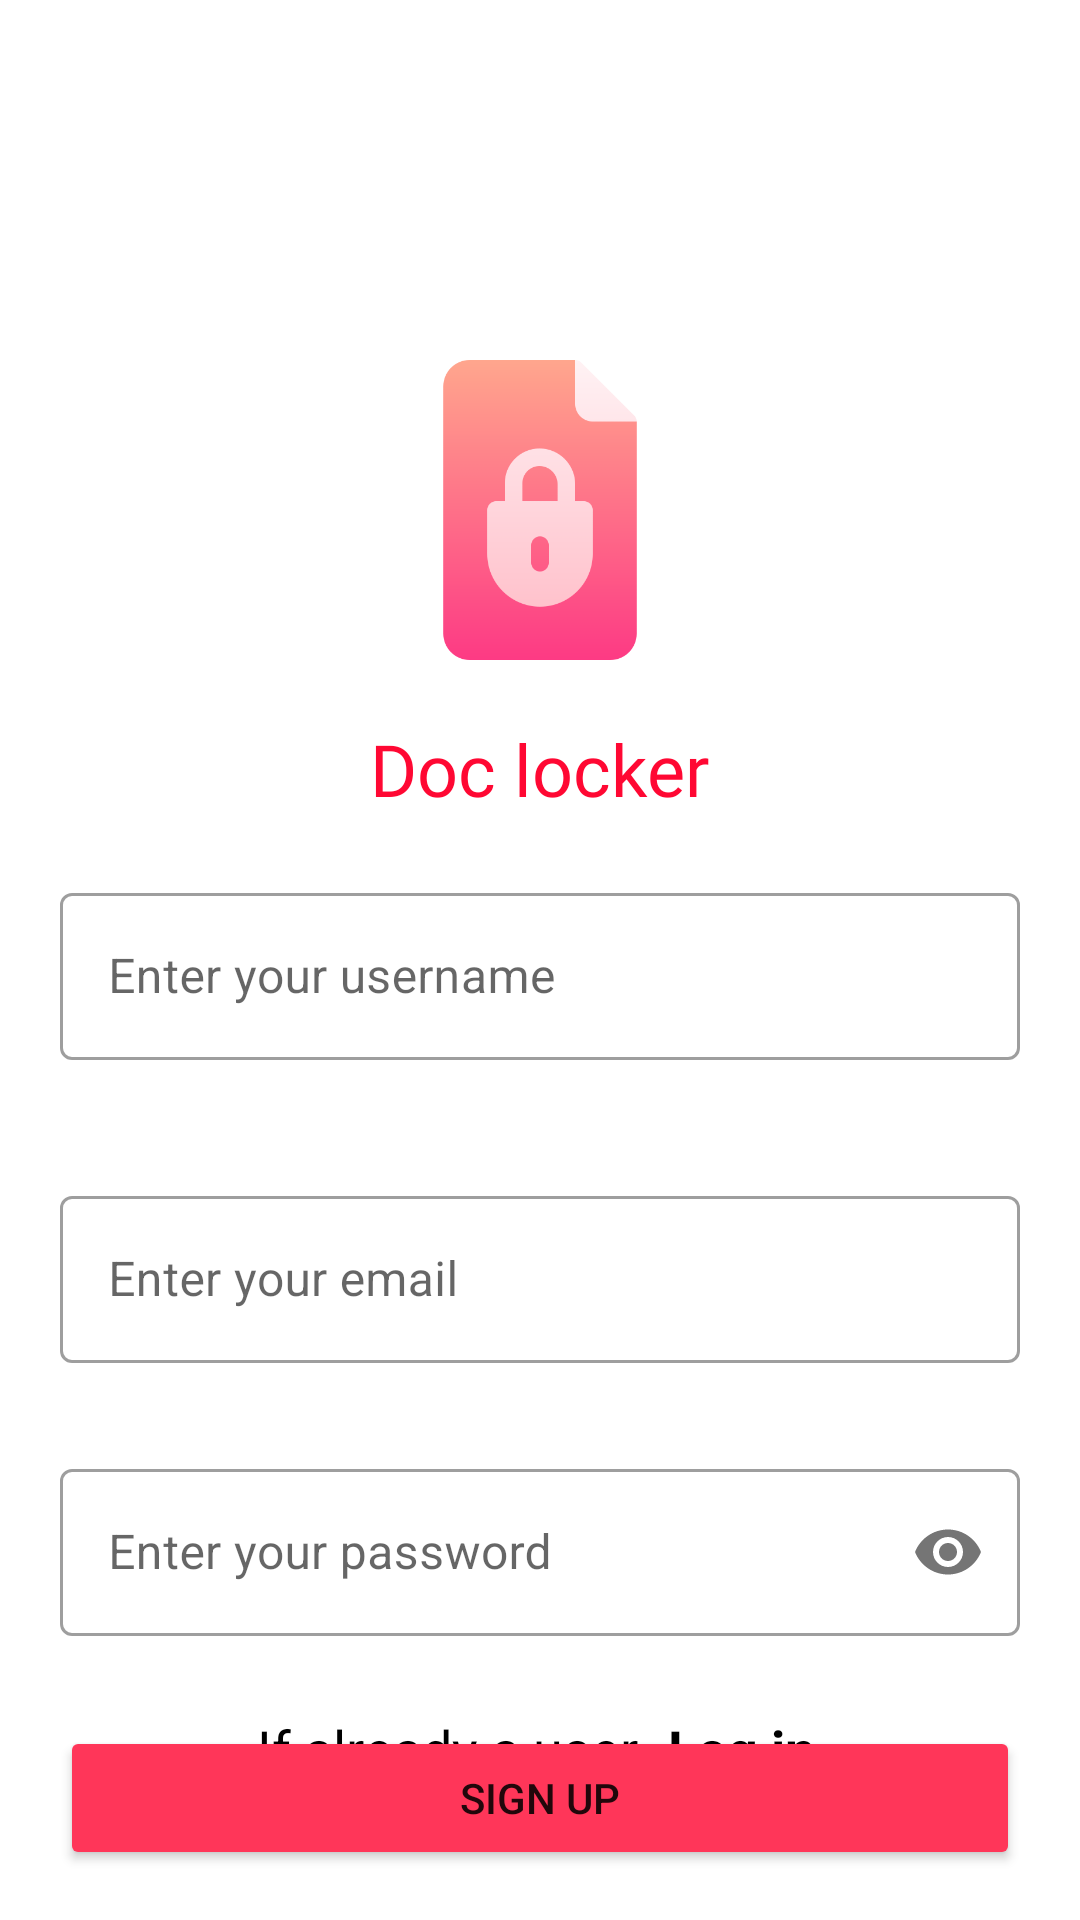

Icon bounding boxes for this 1080w x 1920h phone screenshot, format [x1=x1, y1=y1, x2=x2, y2=y2]:
file: [x1=443, y1=360, x2=637, y2=660]
